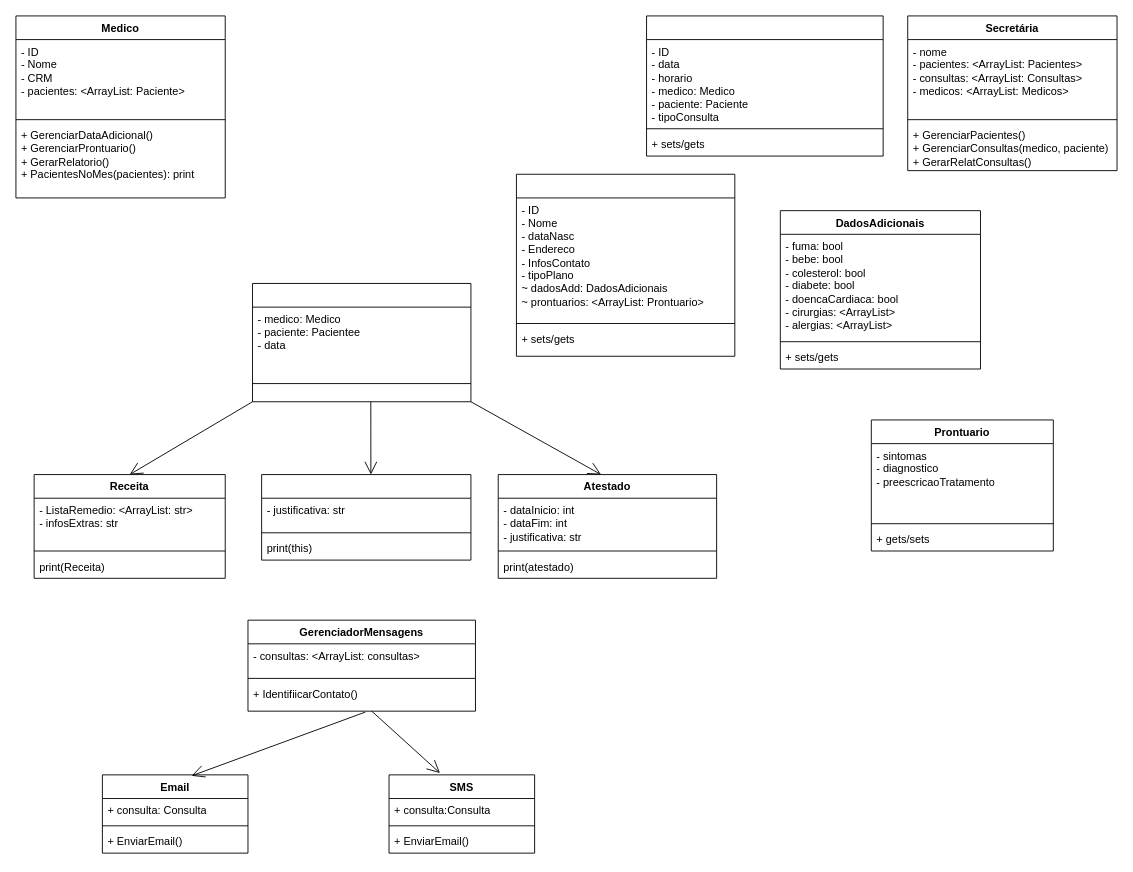
The diagram is 1133 pixels wide and 872 high, and some of its shapes have lost their labels. The box of each missing label's shape, as (x1, y1, x2, y2) in pixels:
Consultas: (646, 15, 883, 156)
DeclaracaoAcompanhamento: (261, 474, 471, 560)
Paciente: (516, 173, 735, 356)
Relatorio (abstrata): (252, 283, 471, 402)
